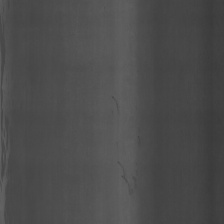water_spot: (117, 155, 145, 202)
